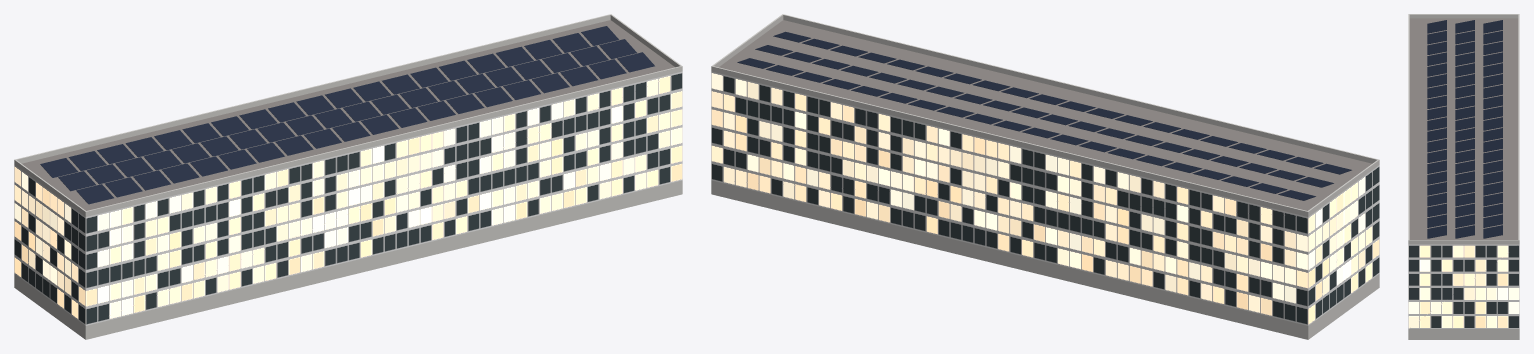
The model's file is fhnw-campus.glb.
3 renders of one model, left to right at view 1: azimuth 30°, elevation 25°; view 2: azimuth 150°, elevation 25°; view 3: azimuth 270°, elevation 25°, orthographic. The views are drawn at different scales.
Parts seen in each view (by area): view 1: Facade, RoofPanels, Shell, Roof; view 2: Facade, Roof, Shell, RoofPanels; view 3: Roof, RoofPanels, Facade, Shell.
Boxes of the visible parts, bbox=[...] form: Facade: bbox=[14, 71, 682, 325]; RoofPanels: bbox=[40, 26, 654, 204]; Shell: bbox=[14, 14, 682, 339]; Roof: bbox=[22, 20, 674, 210]; Facade: bbox=[711, 71, 1379, 325]; Roof: bbox=[719, 20, 1371, 210]; Shell: bbox=[711, 14, 1379, 339]; RoofPanels: bbox=[737, 31, 1351, 200]; Roof: bbox=[1409, 18, 1518, 239]; RoofPanels: bbox=[1427, 20, 1502, 238]; Facade: bbox=[1408, 244, 1519, 328]; Shell: bbox=[1408, 14, 1519, 339].
Size of the model in its own units: 134 by 27.5 by 27.83.
Materials: 4 (1 with a texture image).
